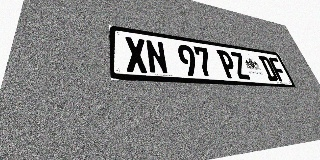7: (192, 46, 216, 77)
9: (176, 44, 200, 76)
D: (258, 56, 279, 81)
F: (268, 57, 289, 82)
N: (145, 39, 169, 75)
P: (216, 50, 239, 79)
X: (124, 36, 149, 73)
Z: (229, 51, 251, 80)
